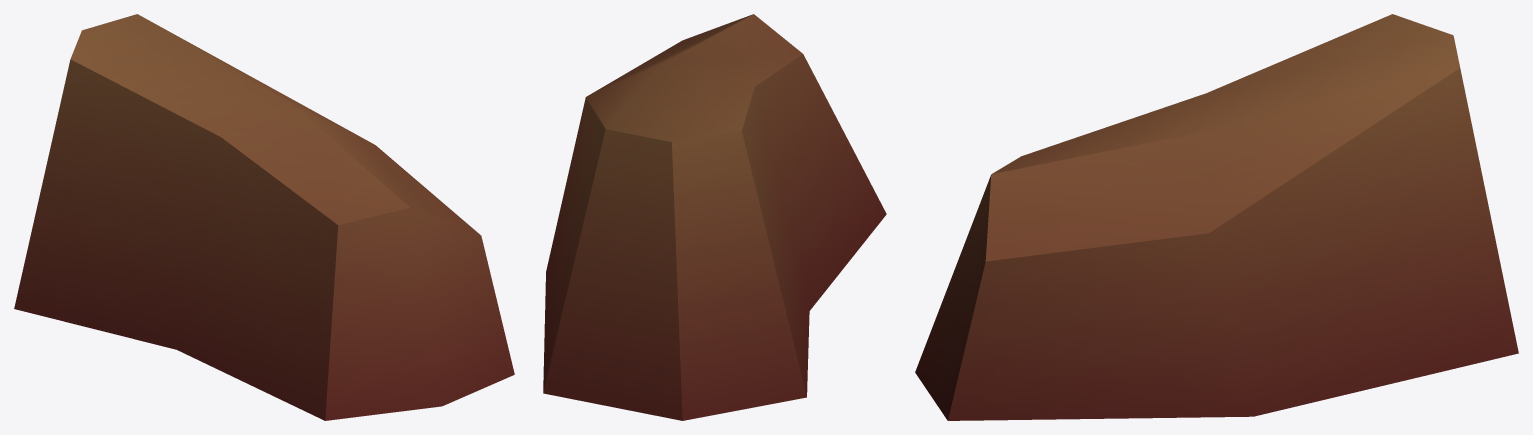
File: Mountain_medium.006.fbx
3 views of the same model, side by side, from view 1: azimuth 30°, elevation 25°; view 2: azimuth 150°, elevation 25°; view 3: azimuth 270°, elevation 25° (orthographic). The views are drawn at different scales.
Visible parts, largest first — view 1: Mountain_medium.006; view 2: Mountain_medium.006; view 3: Mountain_medium.006.
Boxes of the visible parts, x1,y1,x2,y2 form: Mountain_medium.006: (14,14,514,420); Mountain_medium.006: (543,14,886,420); Mountain_medium.006: (915,14,1518,420).
Size of the model in its own units: 23.5 by 17.05 by 34.87.
